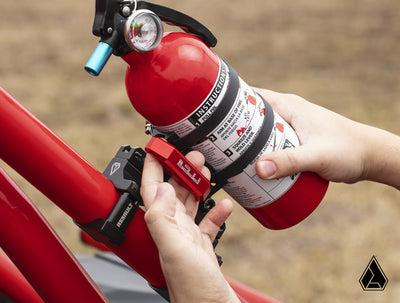Fire Extinguisher: (67, 2, 332, 232)
